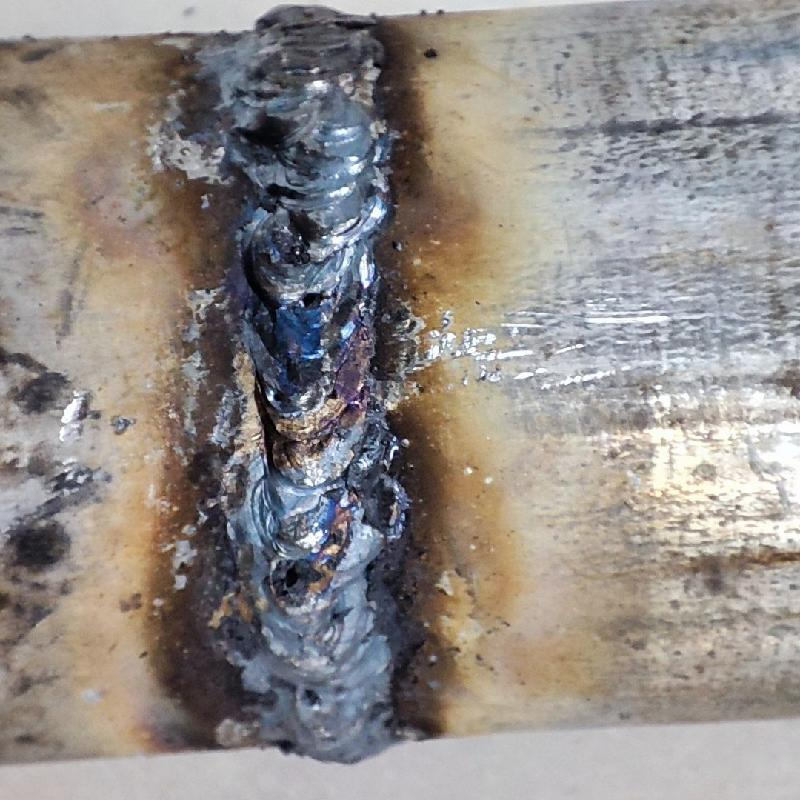Surface_pores: (271, 560, 320, 605), (294, 280, 331, 320), (264, 376, 293, 411), (292, 681, 326, 710)
